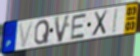E: (69, 12, 88, 41)
I: (111, 7, 119, 34)
Q: (33, 19, 51, 46)
V: (54, 14, 73, 44), (18, 20, 35, 48)
X: (91, 9, 109, 38)
